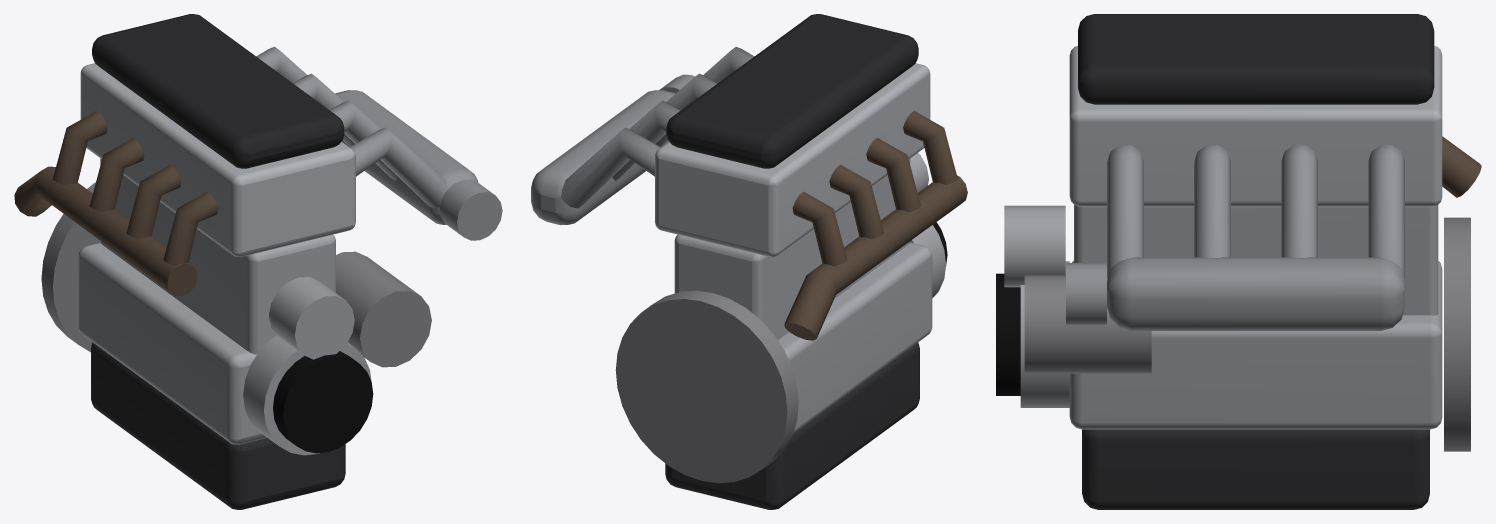
Rendered from demo_i4_pipes.glb.
3 renders of one model, left to right at view 1: azimuth 30°, elevation 25°; view 2: azimuth 150°, elevation 25°; view 3: azimuth 270°, elevation 25°, orthographic. The views are drawn at different scales.
Visible parts, largest first — view 1: demo_i4_pipes; view 2: demo_i4_pipes; view 3: demo_i4_pipes.
Part boxes in pixels (x1,y1,x2,y2): demo_i4_pipes: (14,14,502,509); demo_i4_pipes: (531,14,967,509); demo_i4_pipes: (996,14,1481,509).
Size of the model in its own units: 0.532 by 0.5944 by 0.5935.
